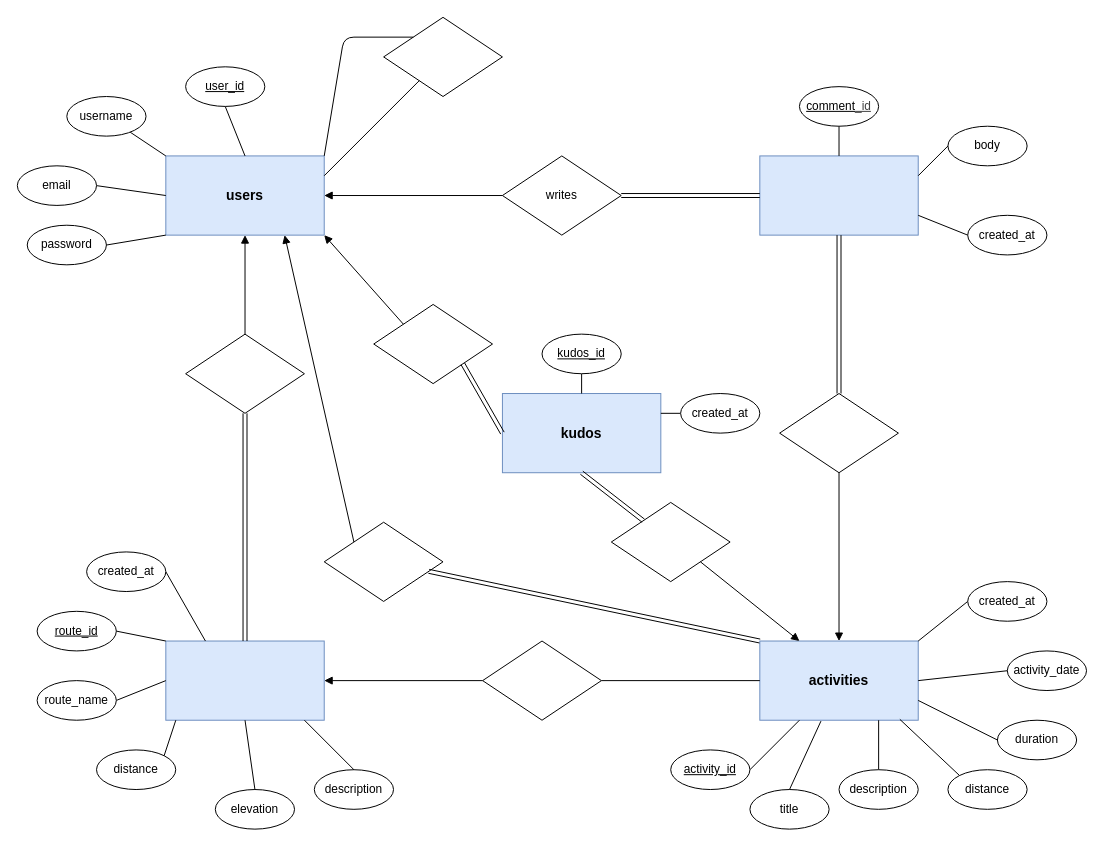
Some shapes in this 1104 by 846 pixel diagram are drawn without their labels. The centre of each missing label's shape, as x and y in pixels:
"comments" belongs at (838,195).
"creates" belongs at (244,373).
"follows" belongs at (442,56).
"gives" belongs at (433,343).
"has" belongs at (838,433).
"logs" belongs at (383,561).
"receives" belongs at (670,541).
"routes" belongs at (244,680).
"used_in" belongs at (541,680).
